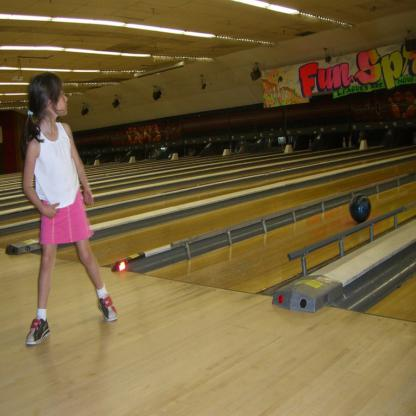Ball: (349, 190, 371, 223)
